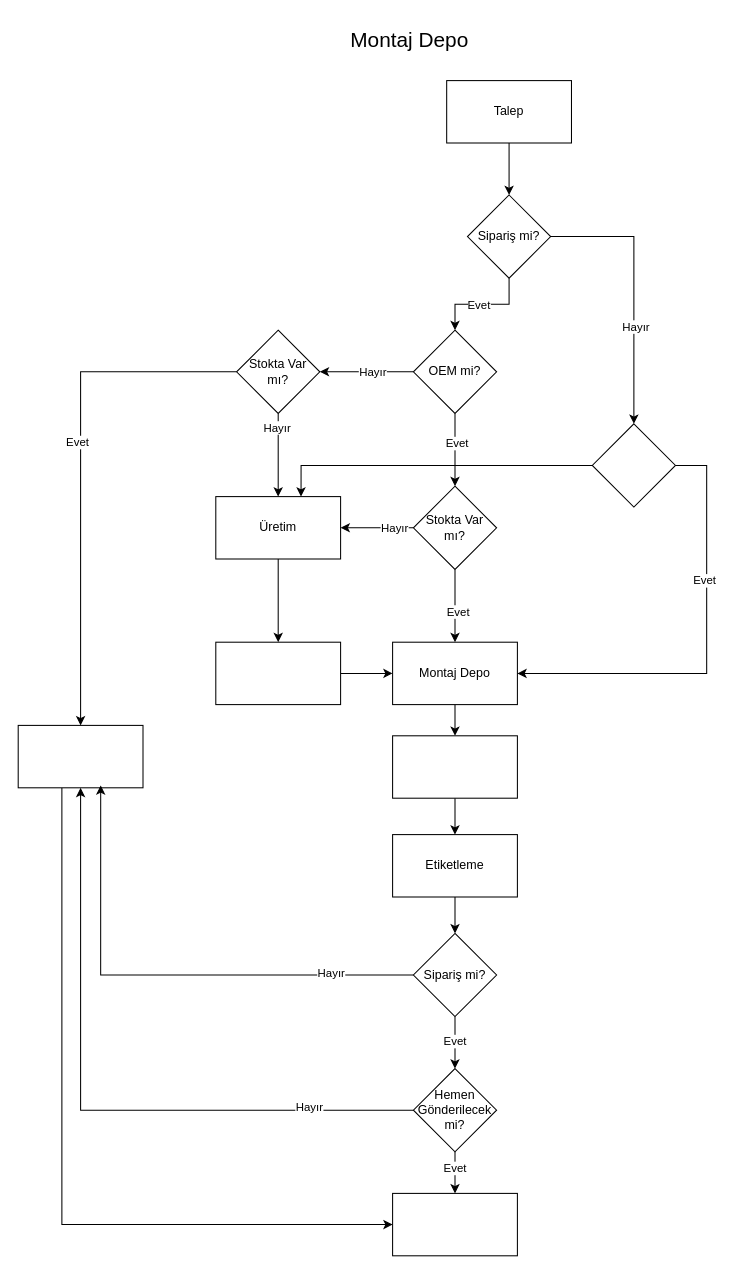
Some shapes in this 733 by 1274 pixel diagram are drawn without their labels. The shapes that lost their labels are listed below. From the top down, each one's centre as x and y in pixels, then its label:
[633,465]: D kodlu ürün var mı?
[278,673]: Kalite Kontrol
[80,756]: Kardex Depo
[454,766]: Ürün Montajlanması
[454,1224]: Sevkiyat Depo
